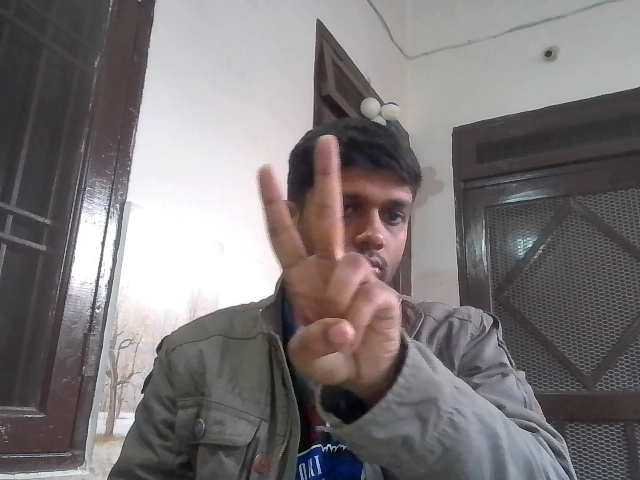Enjoy: (247, 129, 409, 396)
